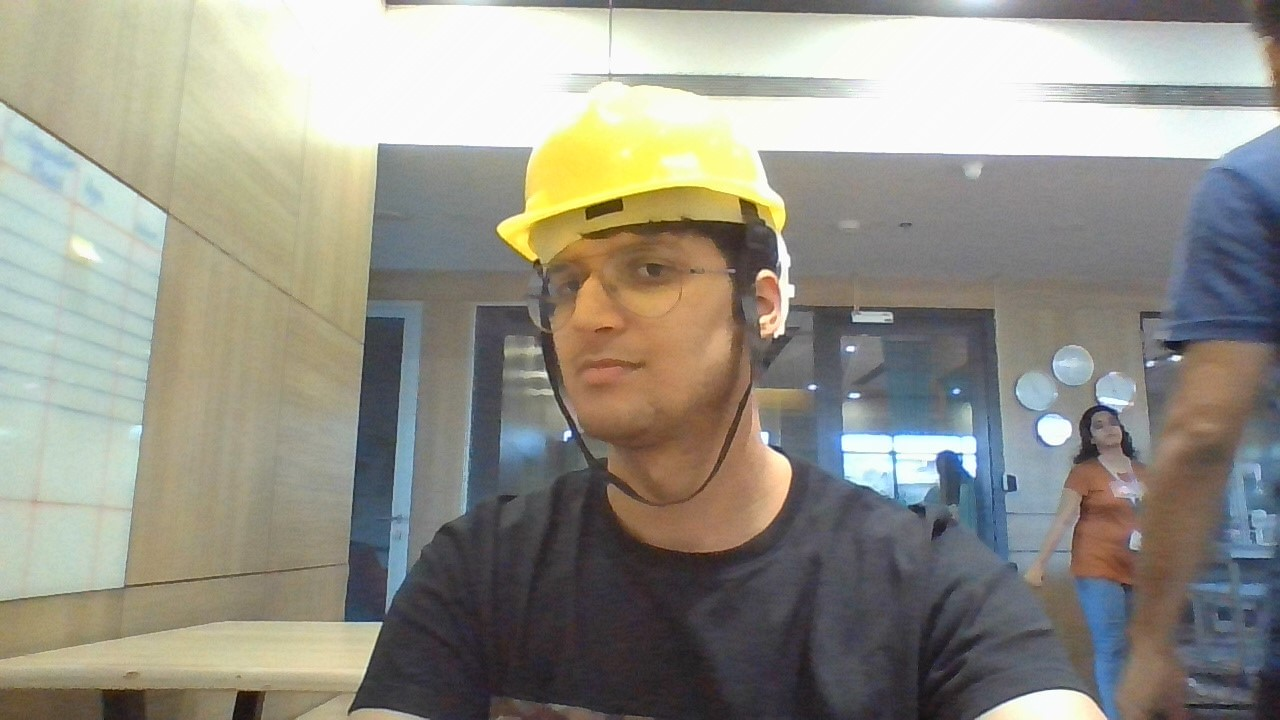Person_wearing_helmet: (497, 48, 791, 322)
